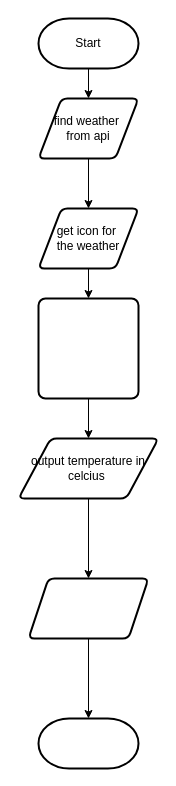
Image size: 176x786. Some labels were removed from this diagram. Here are the shapes that lost their labels. From the top down, the centre of each, then its label:
At (88,348): "TempC = kalvin - 273.15".
At (88,743): "Stop".
